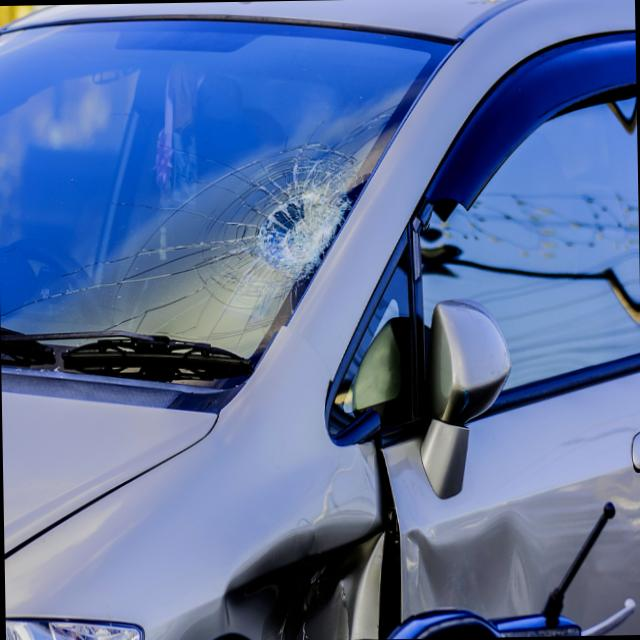Cabossage: (400, 507, 557, 639)
Dechirure: (202, 489, 385, 640)
Fissure: (0, 96, 415, 385)
